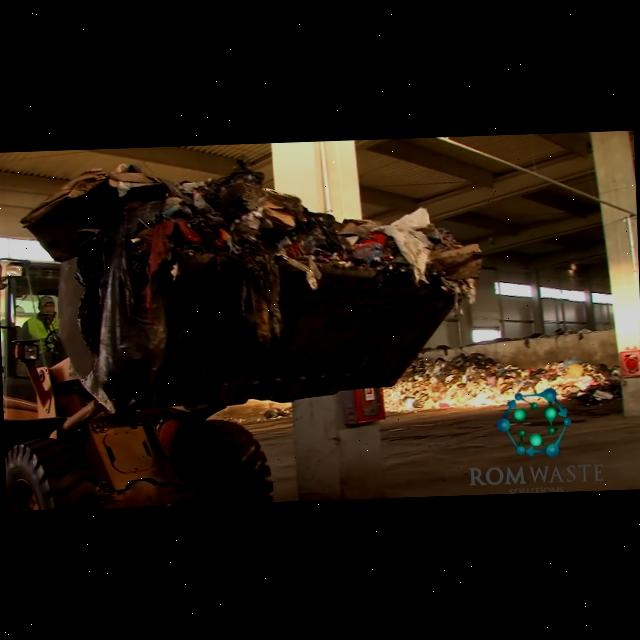trash: (282, 225, 326, 262)
